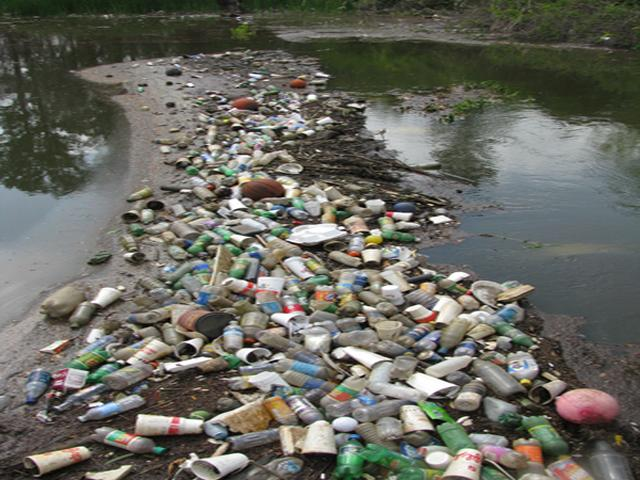garbage: (187, 166, 365, 469), (363, 288, 522, 472)
